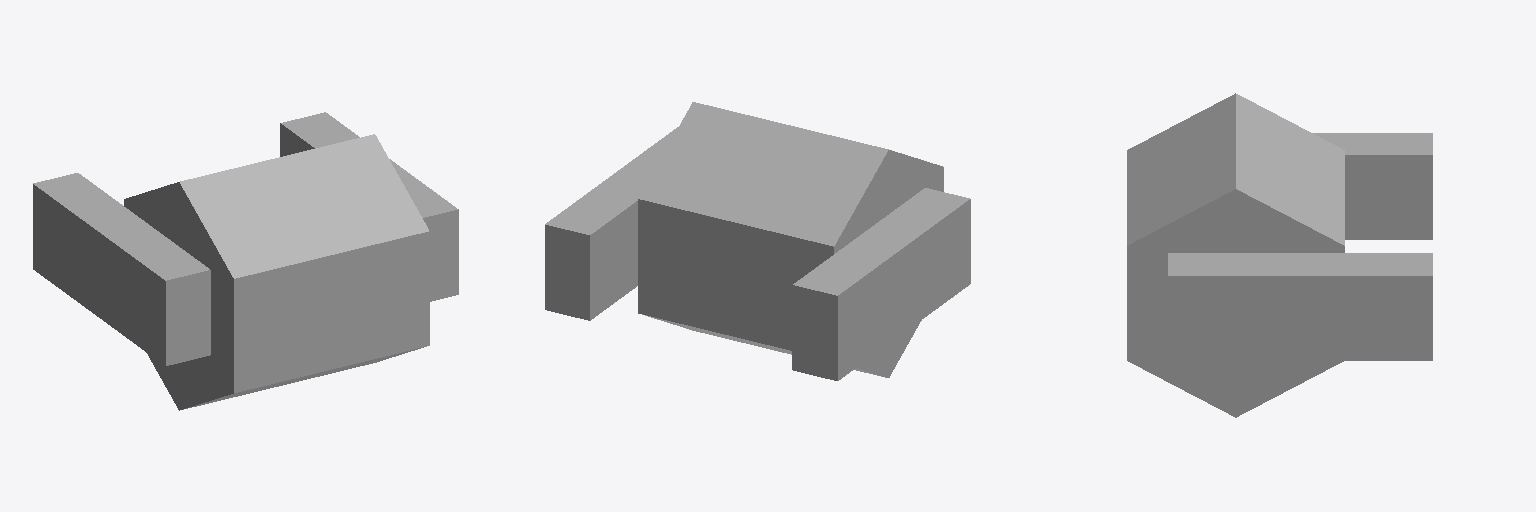
The model's file is wcpapirtekercs.obj.
The picture shows the model from 3 angles: view 1: azimuth 30°, elevation 25°; view 2: azimuth 150°, elevation 25°; view 3: azimuth 270°, elevation 25°; orthographic projection.
Visible parts, largest first — view 1: wcpapirtekercs; view 2: wcpapirtekercs; view 3: wcpapirtekercs.
Part boxes in pixels (x1,y1,x2,y2): wcpapirtekercs: (33, 112, 458, 410); wcpapirtekercs: (545, 102, 970, 380); wcpapirtekercs: (1127, 93, 1432, 417).
Bounding box in the file's own units: 19.37 × 14.46 × 17.57.